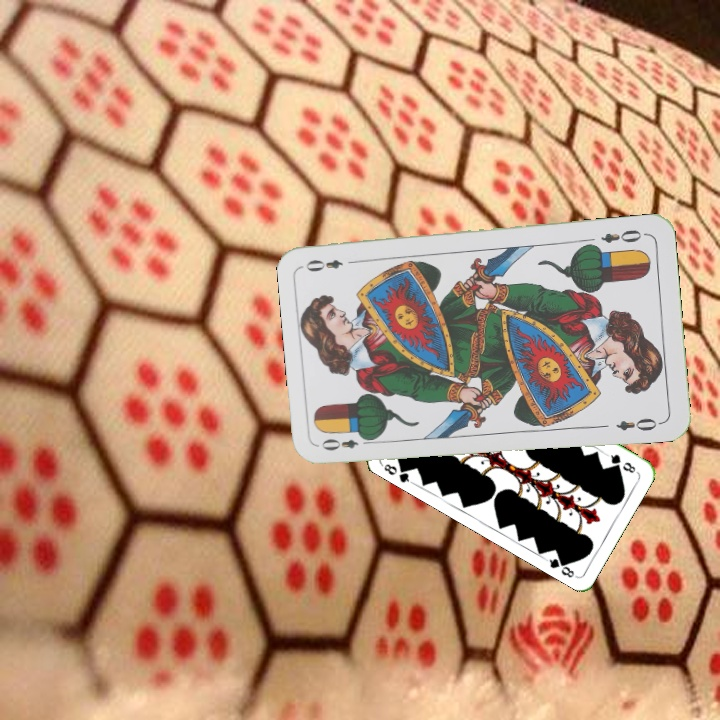EO: (317, 432, 376, 453), (597, 225, 649, 246)
G8: (378, 459, 415, 486), (603, 450, 638, 476)
